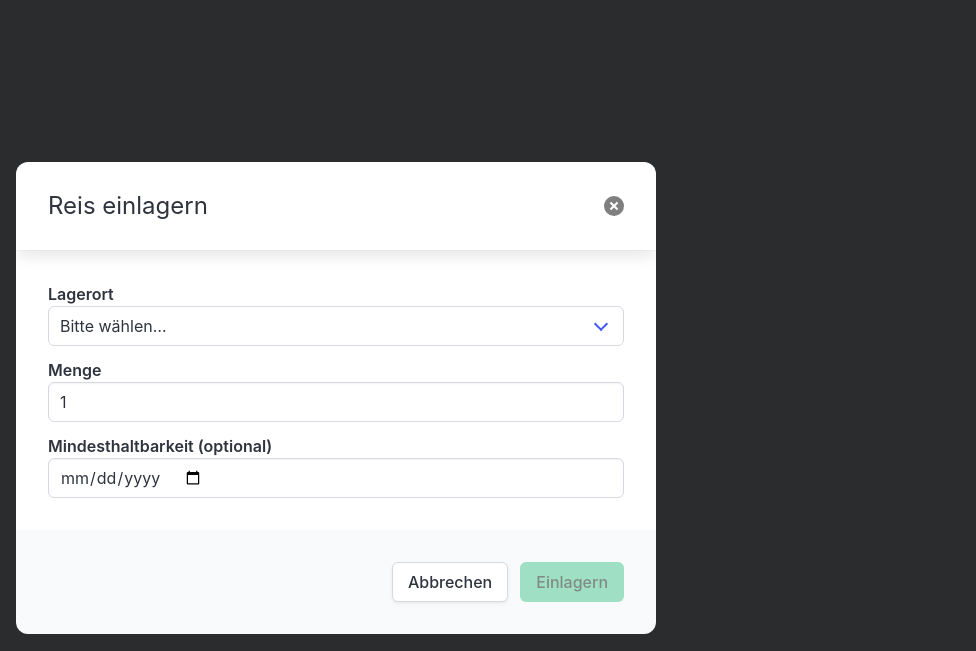
BookingModal › books in with best-before date
expect the button "Einlagern" is disabled: met, box [520,562,624,602]
Select "Keller" in the dropdown labelled "Lagerort": (336, 326) [48,306,624,346]
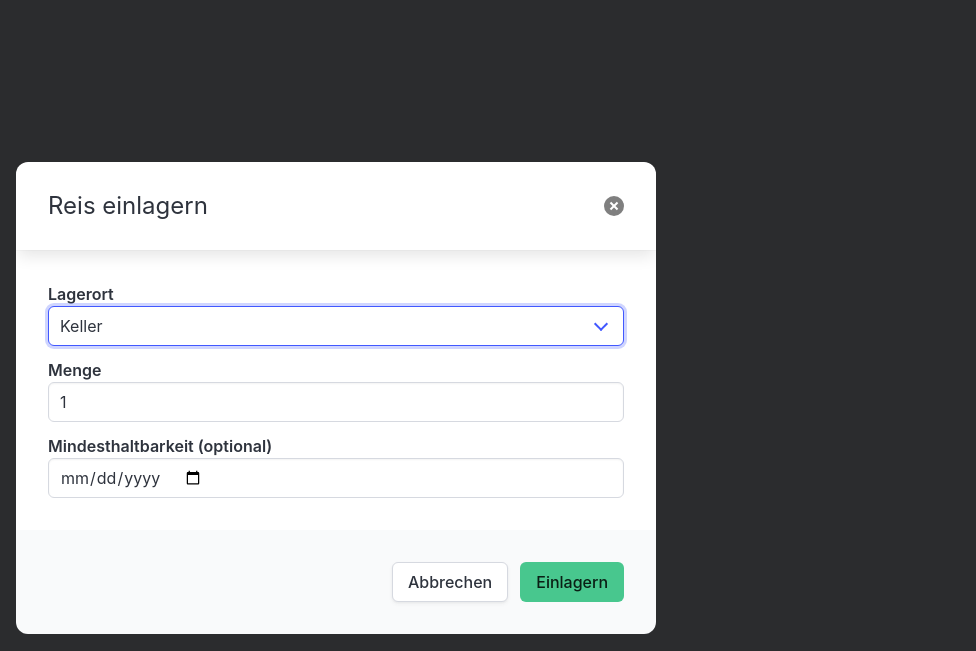
Replace the text in the number field labelled "Menge" with "0": (336, 402) [48,382,624,422]
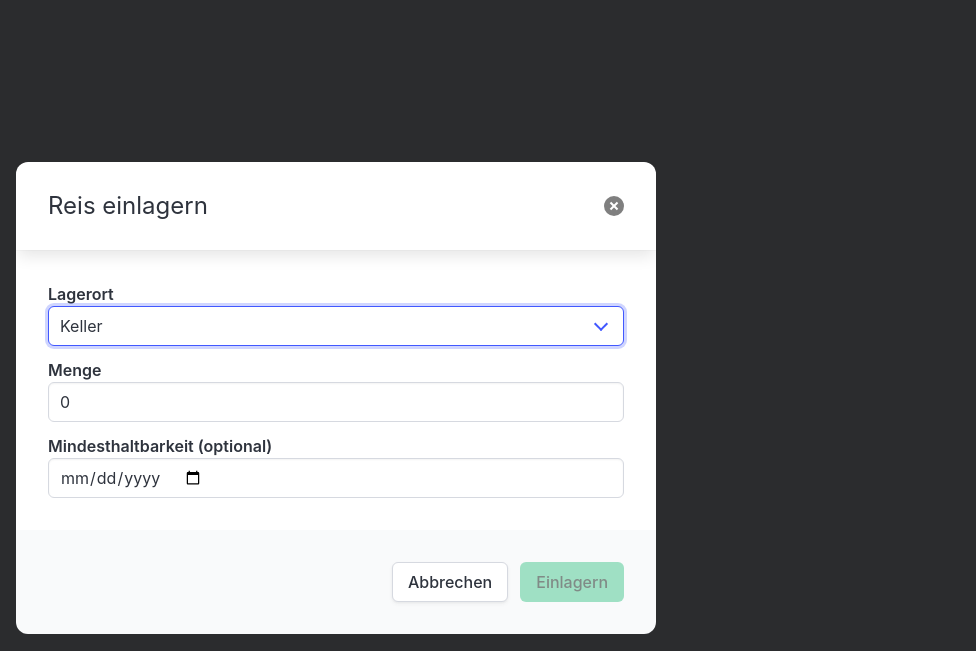
expect the button "Einlagern" is disabled: met, box [520,562,624,602]
Replace the text in the number field labelled "Menge" with "2": (336, 402) [48,382,624,422]
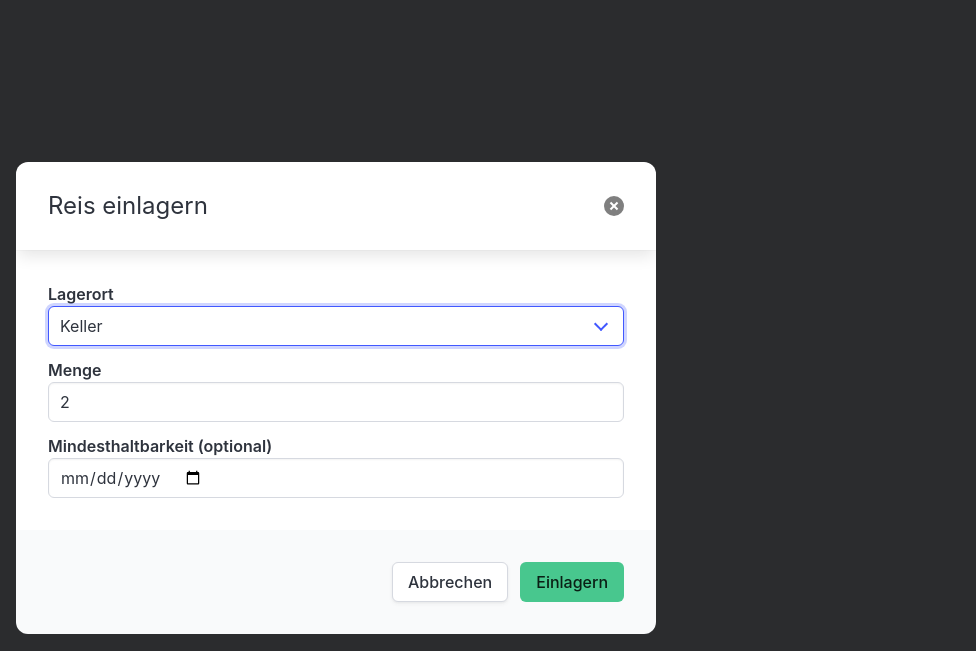
In the date field labelled "Mindesthaltbarkeit (optional)": (336, 478) [48,458,624,498], type "2027-01-02"
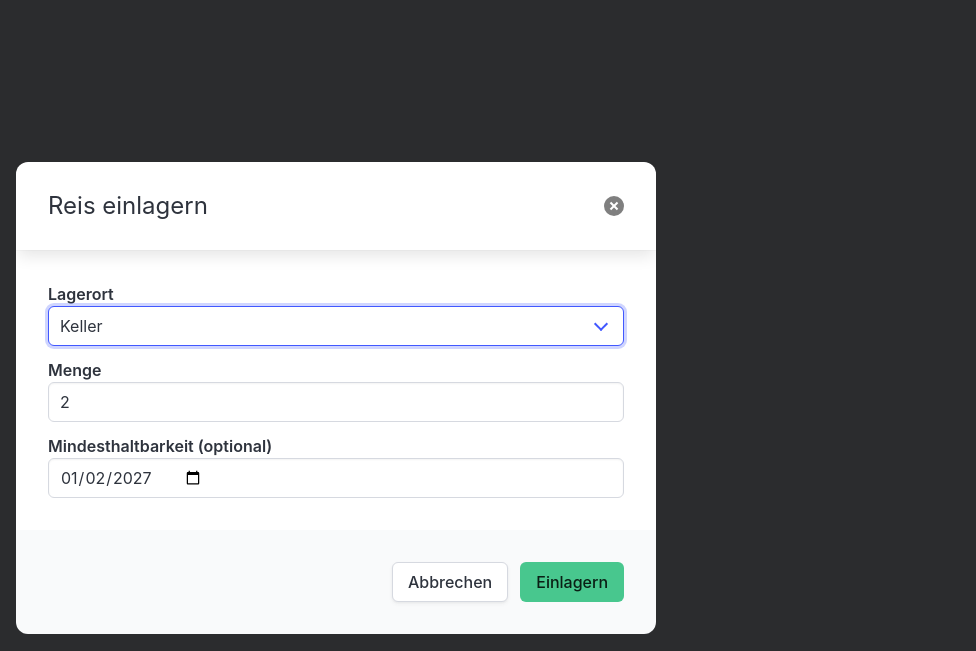
Click the button "Einlagern": (572, 582) [520,562,624,602]
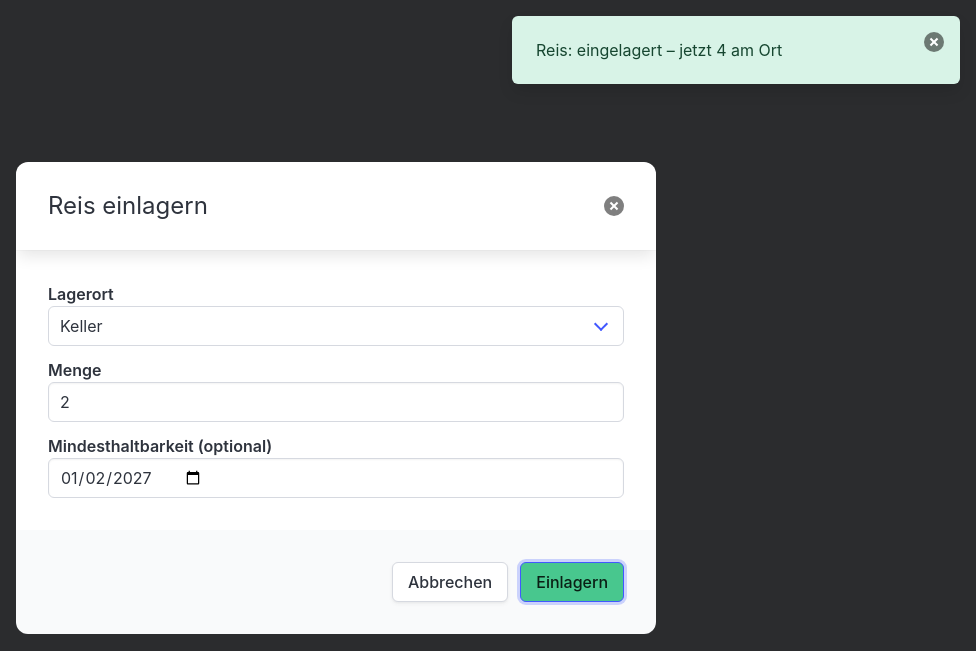
expect the text "Reis: eingelagert – jetzt 4 am Ort" is shown: met, box [512,16,960,84]
